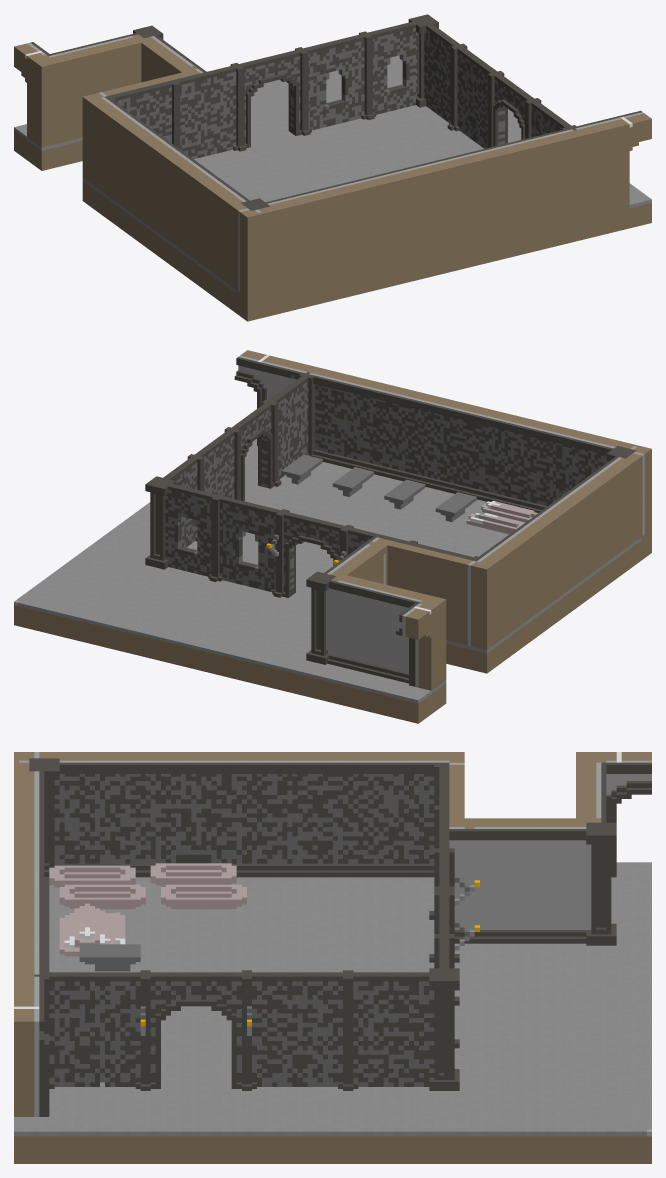
File: CasketRoom-1.obj
3 views of the same model, one above another, from view 1: azimuth 30°, elevation 25°; view 2: azimuth 150°, elevation 25°; view 3: azimuth 270°, elevation 25° (orthographic). The views are drawn at different scales.
Bounding box in the file's own units: 12.6 × 3.1 × 12.6.
